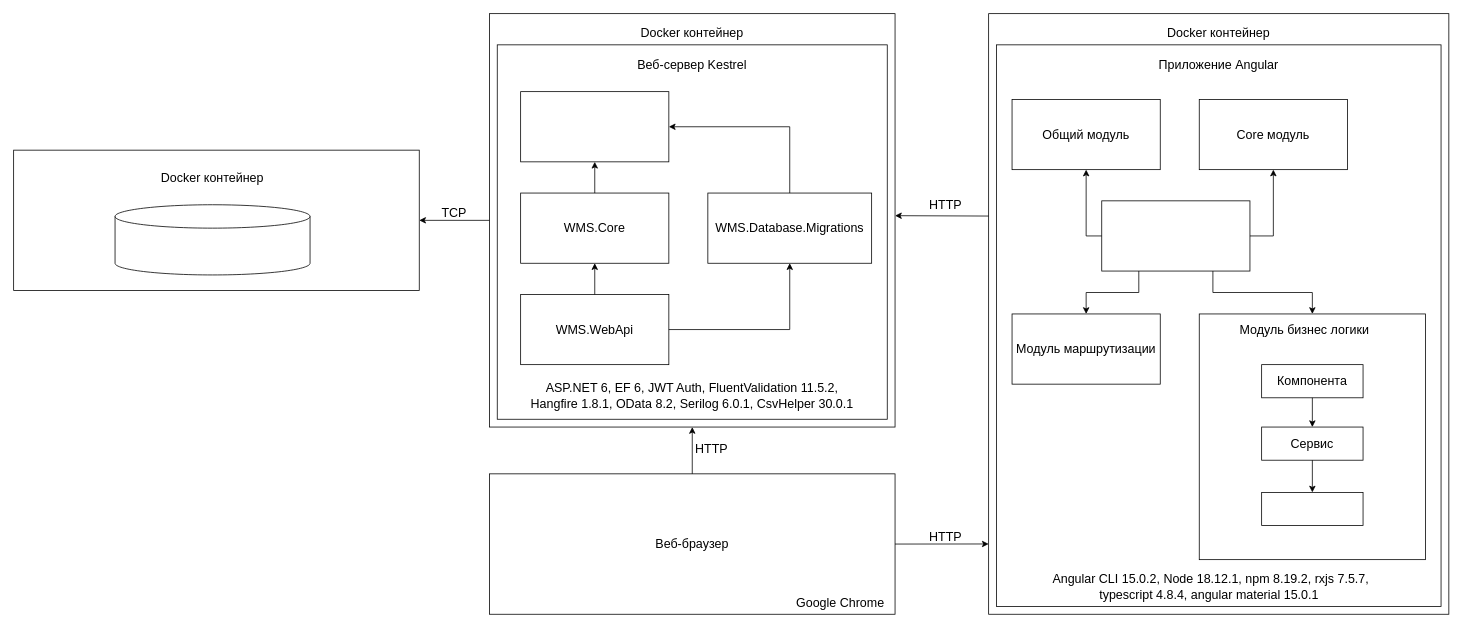
The diagram is 1463 pixels wide and 628 high, and some of its shapes have lost their labels. The centre of each missing label's shape, as x and y in pixels:
MS SQL Server 2019: [212,239]
WMS.Database: [594,126]
Корневой модуль: [1175,235]
Сервис данных: [1312,509]
